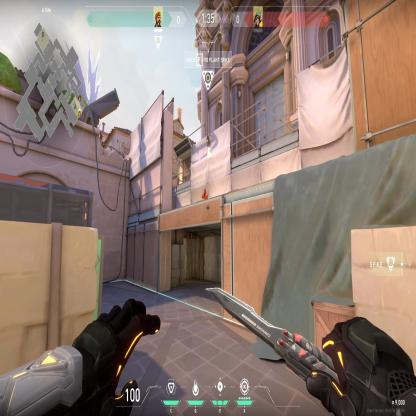enemy: (201, 187, 208, 200)
